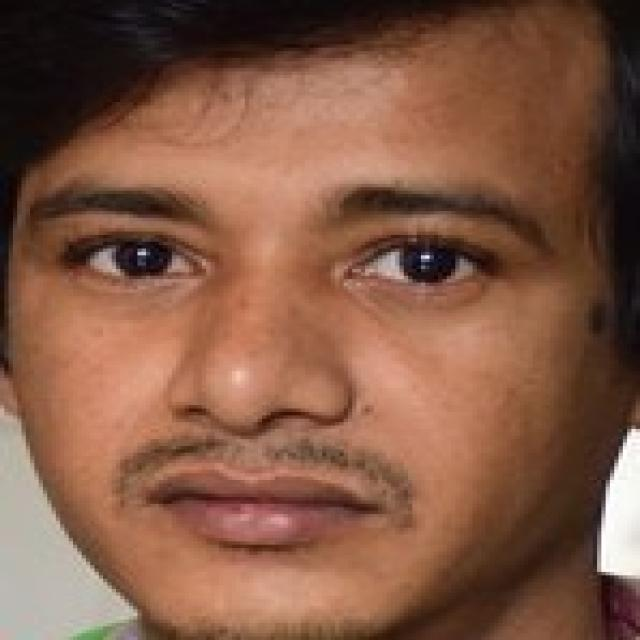0_rostro_limpio: (0, 21, 614, 636)
